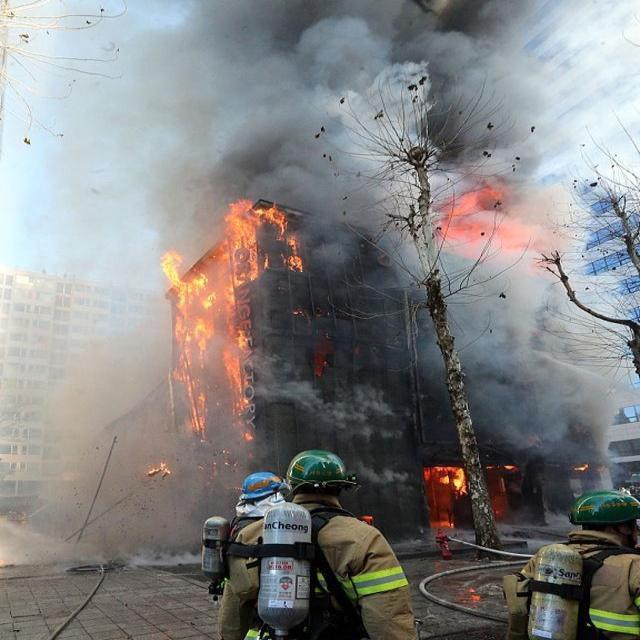Fire: (160, 202, 254, 398)
Smoke: (133, 0, 411, 201)
